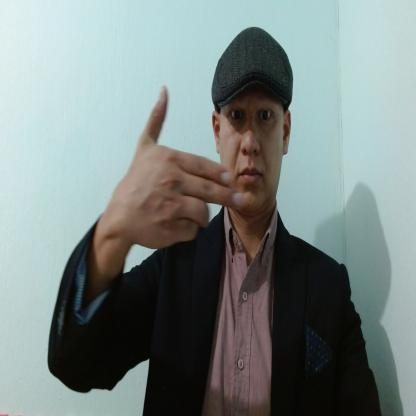H: (124, 82, 247, 250)
